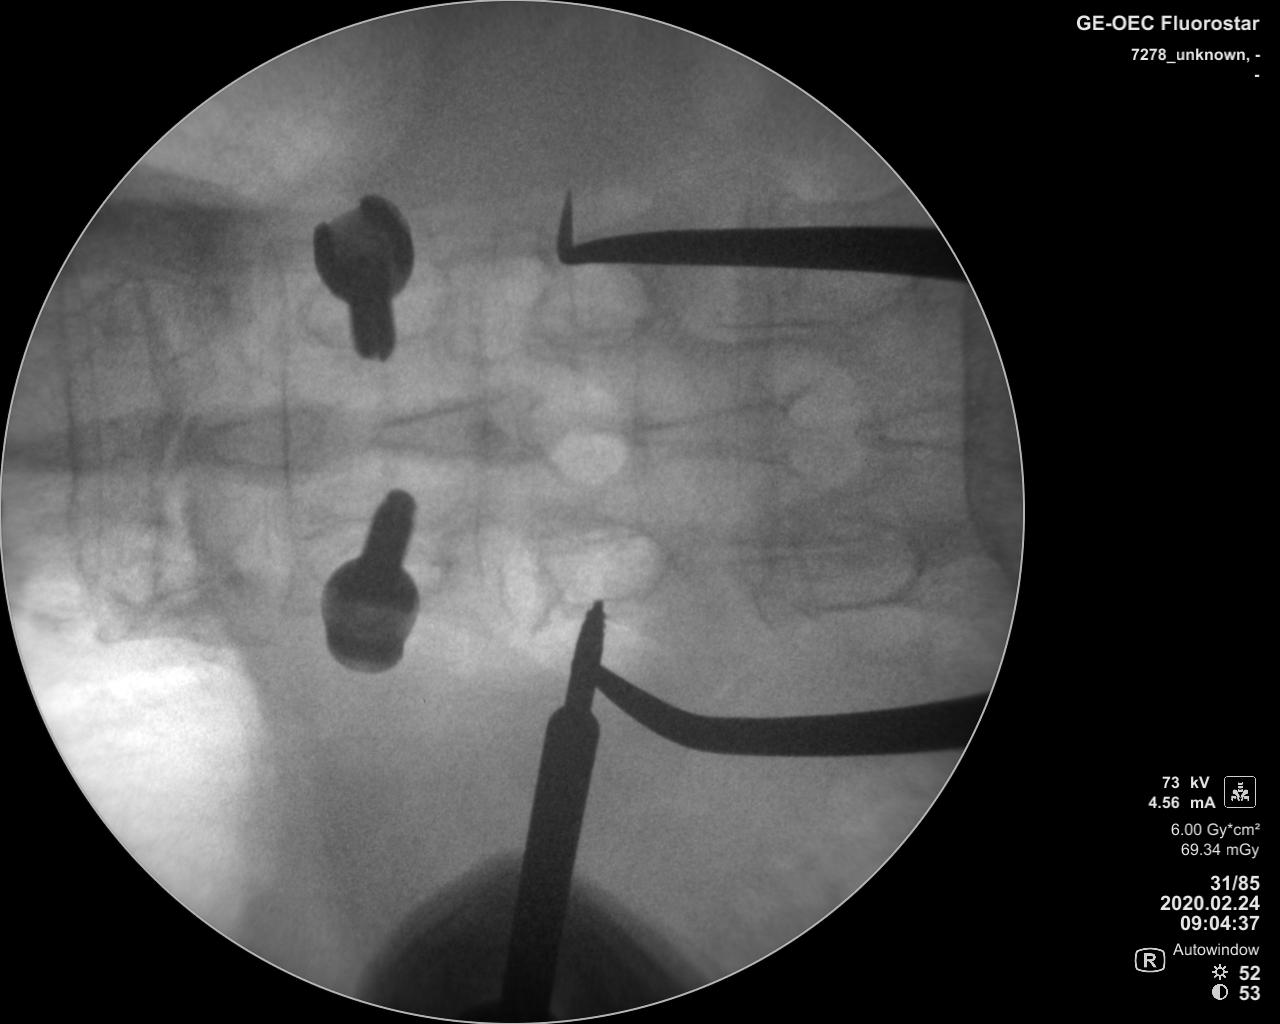eyes: (301, 256, 445, 350), (775, 517, 920, 606), (84, 515, 209, 608), (86, 276, 216, 360), (537, 523, 668, 605), (307, 521, 449, 596), (533, 262, 655, 348)
line: (53, 293, 109, 587), (269, 243, 304, 578), (951, 285, 980, 559), (471, 267, 492, 598)
nose: (359, 393, 541, 465), (618, 395, 799, 467), (13, 409, 176, 472), (174, 408, 335, 470), (848, 395, 983, 456)
